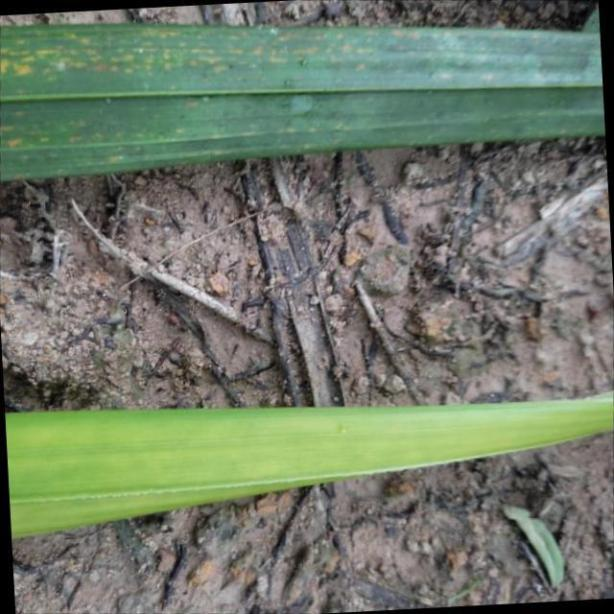nitrogen: (0, 392, 614, 539)
